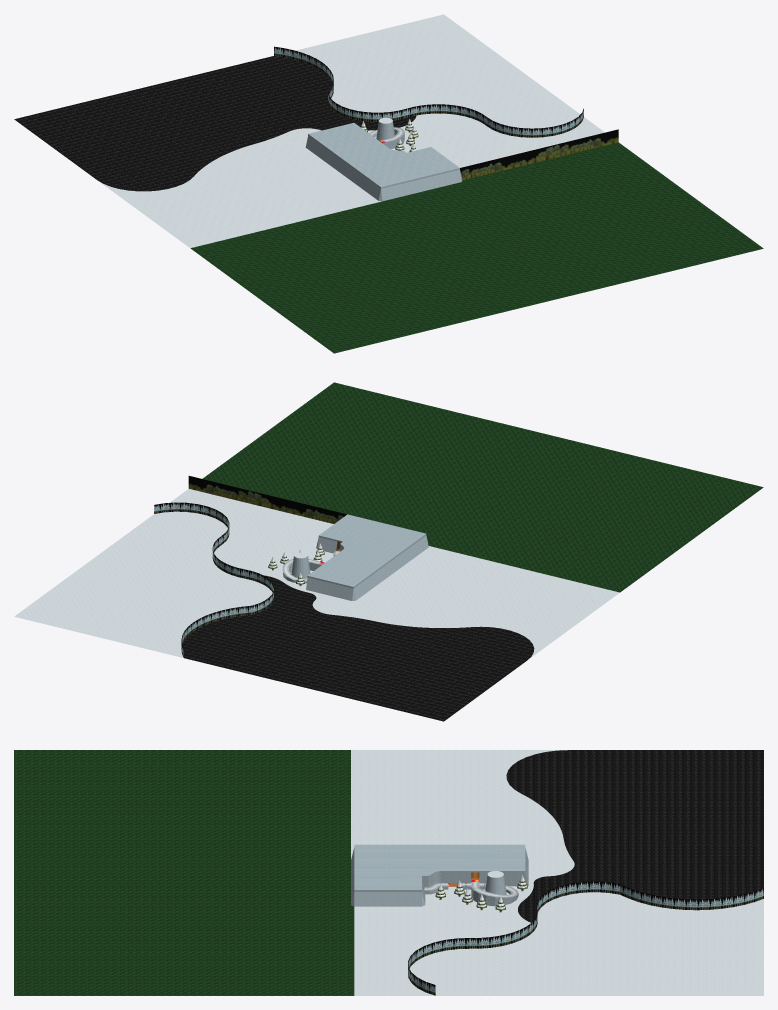
3 renders of one model, top to bottom at view 1: azimuth 30°, elevation 25°; view 2: azimuth 150°, elevation 25°; view 3: azimuth 270°, elevation 25°, orthographic. The views are drawn at different scales.
Parts seen in each view (by area): view 1: Frigid_Peaks_SKP__Grass, Frigid_Peaks_SKP__Snow, Frigid_Peaks_SKP__ef_wave, Frigid_Peaks_SKP__IceRock, Frigid_Peaks_SKP__Forest, Frigid_Peaks_SKP__Hills; view 2: Frigid_Peaks_SKP__Grass, Frigid_Peaks_SKP__Snow, Frigid_Peaks_SKP__ef_wave, Frigid_Peaks_SKP__IceRock, Frigid_Peaks_SKP__Forest, Frigid_Peaks_SKP__Hills; view 3: Frigid_Peaks_SKP__Grass, Frigid_Peaks_SKP__Snow, Frigid_Peaks_SKP__ef_wave, Frigid_Peaks_SKP__IceRock, Frigid_Peaks_SKP__Forest, Frigid_Peaks_SKP__Material__27, Frigid_Peaks_SKP__Road.
Boxes of the visible parts, left/top/right/bottom form: Frigid_Peaks_SKP__Grass: left=190, top=142, right=763, bottom=353; Frigid_Peaks_SKP__Snow: left=99, top=14, right=604, bottom=248; Frigid_Peaks_SKP__ef_wave: left=14, top=56, right=416, bottom=191; Frigid_Peaks_SKP__IceRock: left=305, top=121, right=462, bottom=201; Frigid_Peaks_SKP__Forest: left=274, top=46, right=583, bottom=137; Frigid_Peaks_SKP__Hills: left=460, top=129, right=618, bottom=180; Frigid_Peaks_SKP__Grass: left=202, top=382, right=763, bottom=592; Frigid_Peaks_SKP__Snow: left=14, top=489, right=619, bottom=659; Frigid_Peaks_SKP__ef_wave: left=182, top=575, right=534, bottom=721; Frigid_Peaks_SKP__IceRock: left=283, top=514, right=428, bottom=600; Frigid_Peaks_SKP__Forest: left=154, top=502, right=273, bottom=657; Frigid_Peaks_SKP__Hills: left=188, top=476, right=346, bottom=523; Frigid_Peaks_SKP__Grass: left=14, top=750, right=354, bottom=995; Frigid_Peaks_SKP__Snow: left=351, top=750, right=763, bottom=995; Frigid_Peaks_SKP__ef_wave: left=506, top=750, right=763, bottom=922; Frigid_Peaks_SKP__IceRock: left=351, top=844, right=528, bottom=906; Frigid_Peaks_SKP__Forest: left=408, top=881, right=763, bottom=995; Frigid_Peaks_SKP__Material__27: left=435, top=875, right=527, bottom=912; Frigid_Peaks_SKP__Road: left=424, top=882, right=518, bottom=897.
Size of the model in its own units: 259371 by 11275 by 334491.
Materials: 14 (14 with a texture image).
